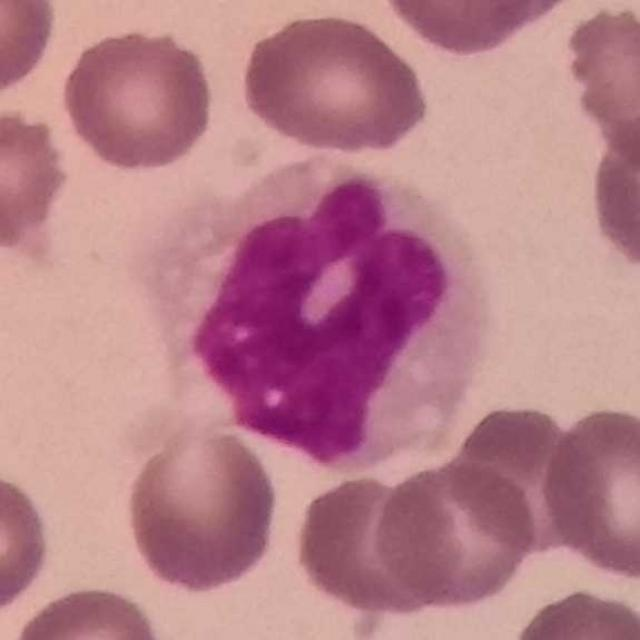mono: (142, 160, 508, 469)
